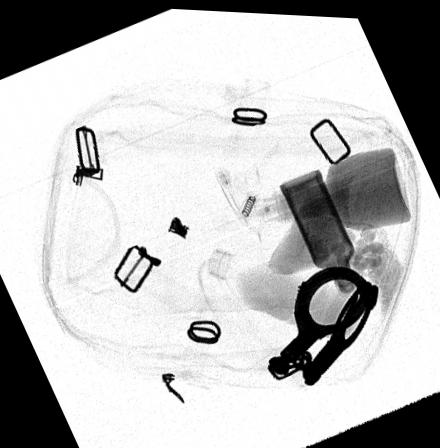HandCuffs: (267, 261, 379, 383)
